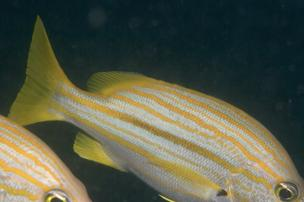Lutjanidae -Snappers-: (0, 11, 304, 202)
